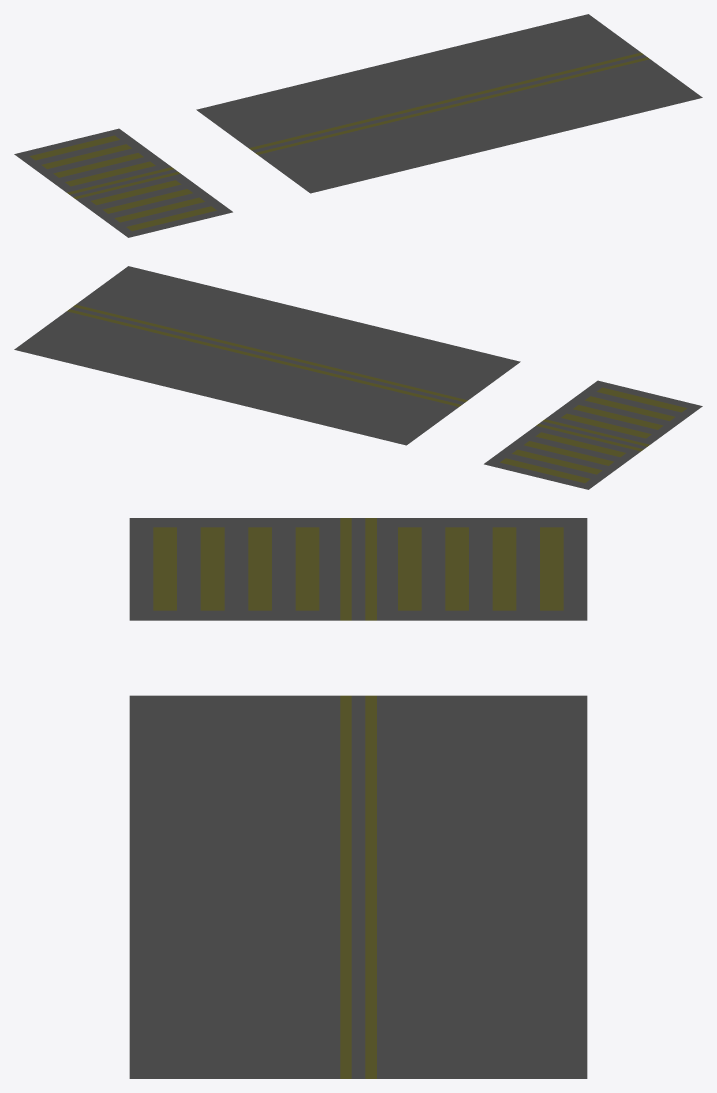
File: calles.fbx
3 views of the same model, one above another, from view 1: azimuth 30°, elevation 25°; view 2: azimuth 150°, elevation 25°; view 3: azimuth 270°, elevation 25° (orthographic). The views are drawn at different scales.
Visible parts, largest first — view 1: Calle, PasodeZebra; view 2: Calle, PasodeZebra; view 3: Calle, PasodeZebra.
Boxes of the visible parts, box(x1,y1,x2,y2) form: Calle: box(196, 14, 702, 193); PasodeZebra: box(14, 128, 232, 237); Calle: box(14, 266, 520, 445); PasodeZebra: box(484, 380, 702, 489); Calle: box(129, 695, 587, 1078); PasodeZebra: box(129, 518, 587, 620).
Size of the model in its own units: 48.98 by 0 by 16.89.
